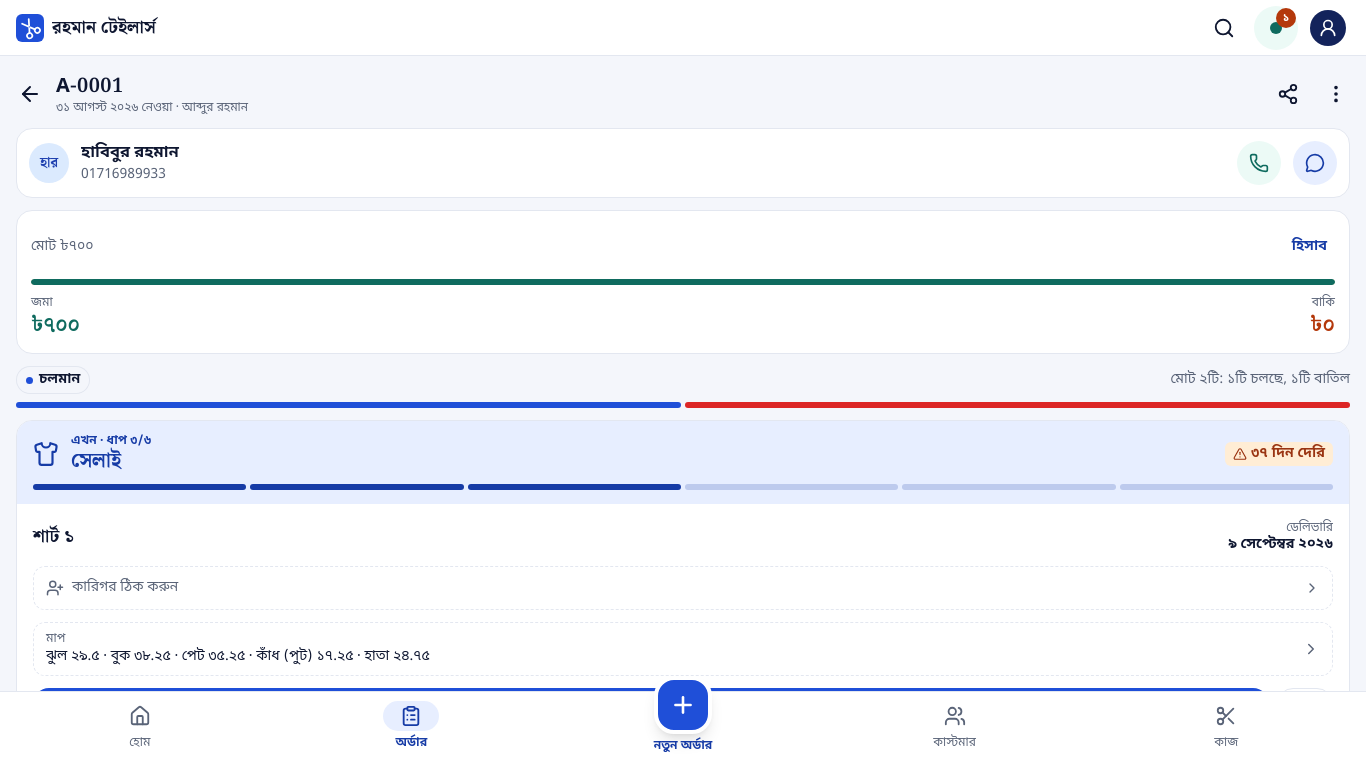
Test: Order detail on a phone › offers to assign a worker when nobody has the garment
Expected: the heading "A-0001" is shown, 56,70 -> 124,102
What coordinates should you click on to do the following:
click the button "কারিগর ঠিক করুন"
I would click on:
 (125, 587)
Its box is 33,566 -> 1333,610.
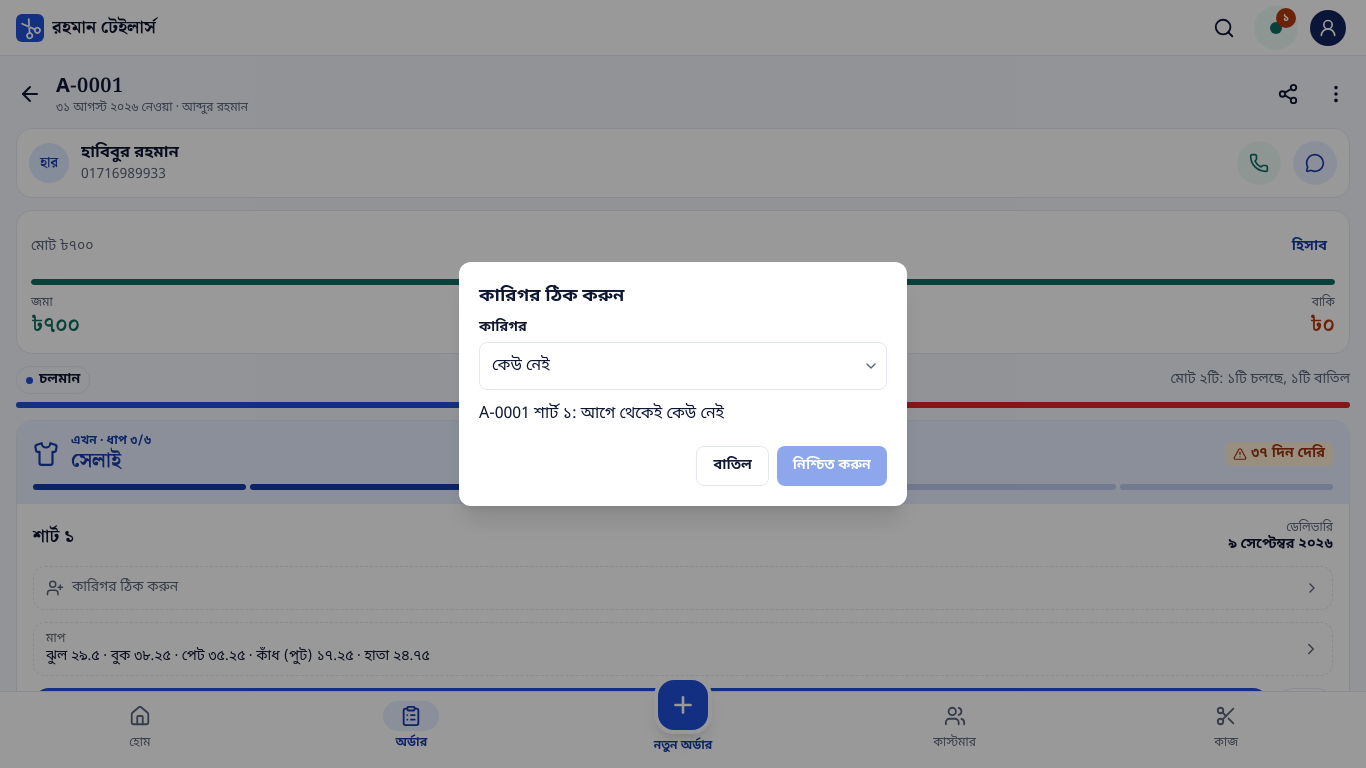
Expected: the dialog "কারিগর ঠিক করুন" is shown, 459,262 -> 907,506
